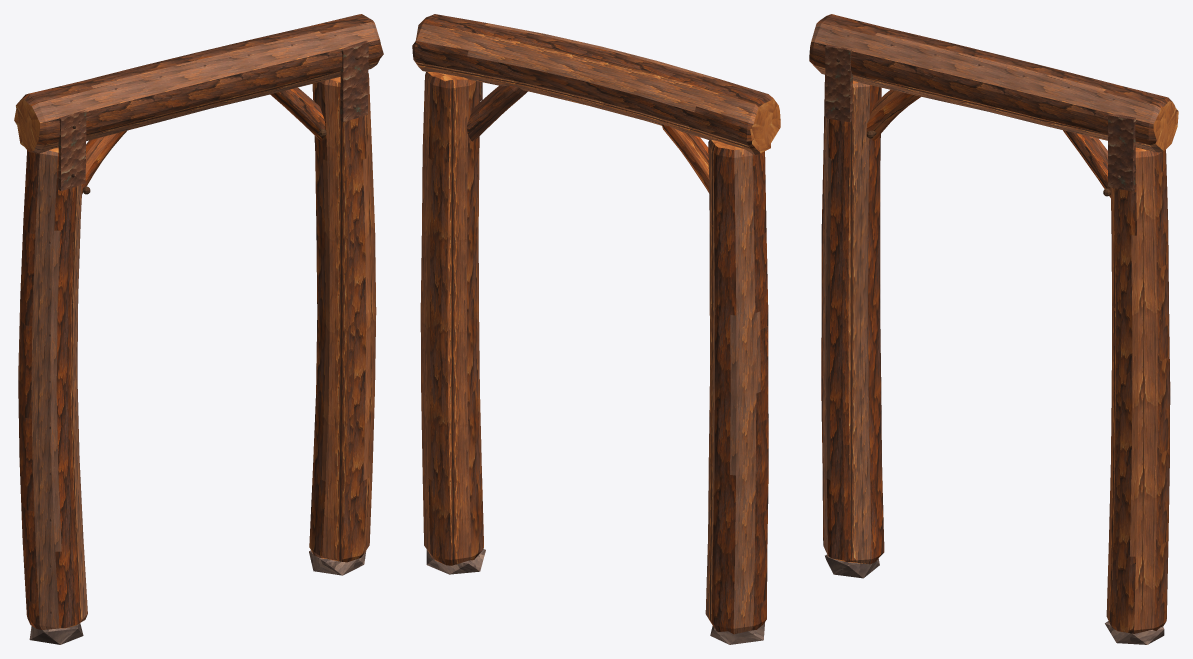
The model's file is mine_prop__plank_root.glb.
The picture shows the model from 3 angles, left to right: view 1: azimuth 30°, elevation 25°; view 2: azimuth 150°, elevation 25°; view 3: azimuth 330°, elevation 25°; orthographic projection.
Visible parts, largest first — view 1: model; view 2: model; view 3: model.
Part boxes in pixels (x1,y1,x2,y2): model: (14,14,383,644); model: (412,14,780,644); model: (809,14,1178,644).
Bounding box in the file's own units: 1.97 × 2.98 × 0.3553.
18 materials, 18 textured.
